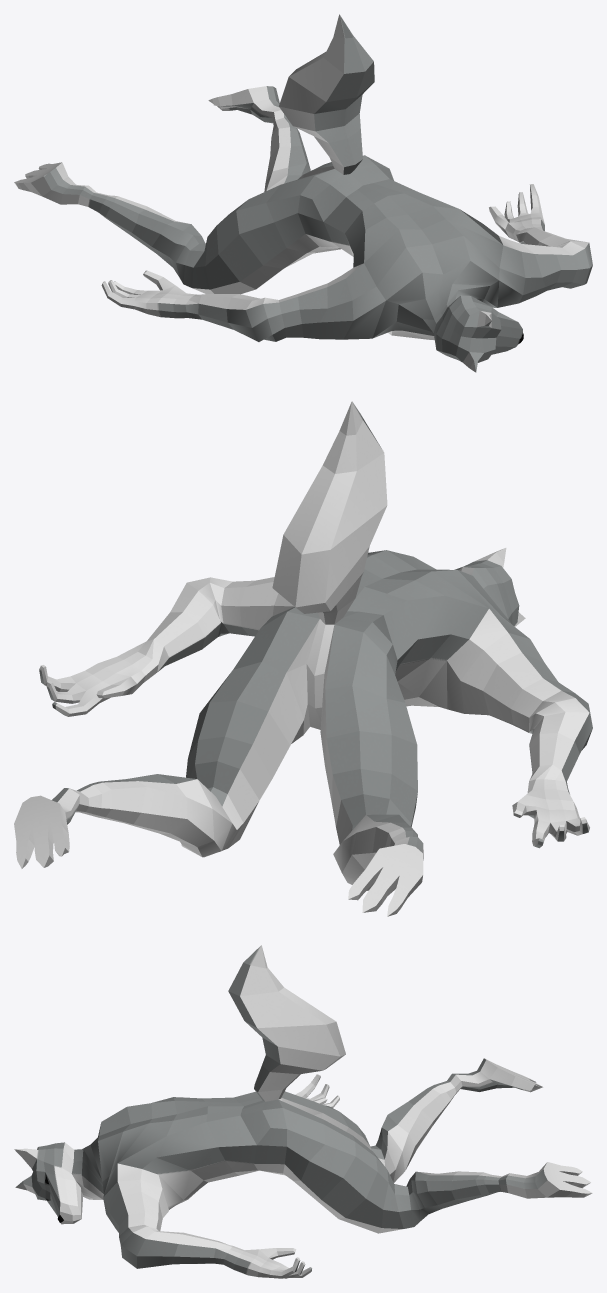
File: WolfDead(105).obj
3 views of the same model, one above another, from view 1: azimuth 30°, elevation 25°; view 2: azimuth 150°, elevation 25°; view 3: azimuth 270°, elevation 25° (orthographic). The views are drawn at different scales.
Parts seen in each view (by area): view 1: Box001; view 2: Box001; view 3: Box001.
Part boxes in pixels (left/top/right/bottom): Box001: left=14, top=14, right=592, bottom=372; Box001: left=14, top=401, right=592, bottom=916; Box001: left=14, top=945, right=592, bottom=1278.
Bounding box in the file's own units: 127 × 86.98 × 164.
